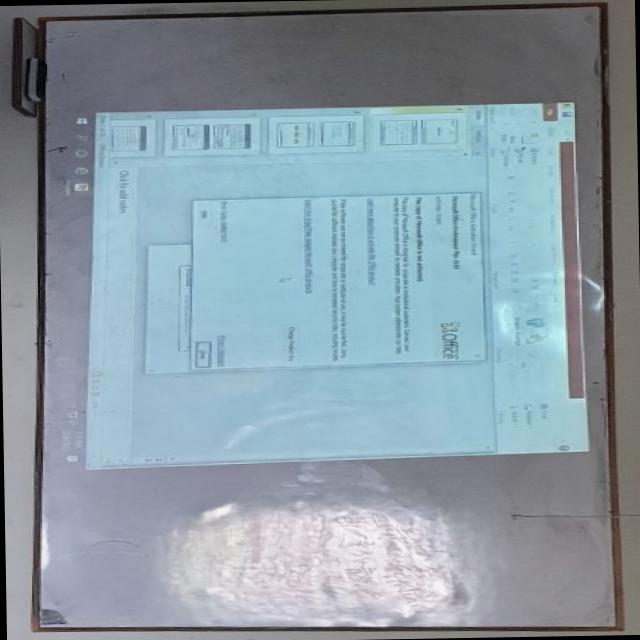Slide: (43, 102, 590, 472)
White-board: (34, 8, 617, 631)
